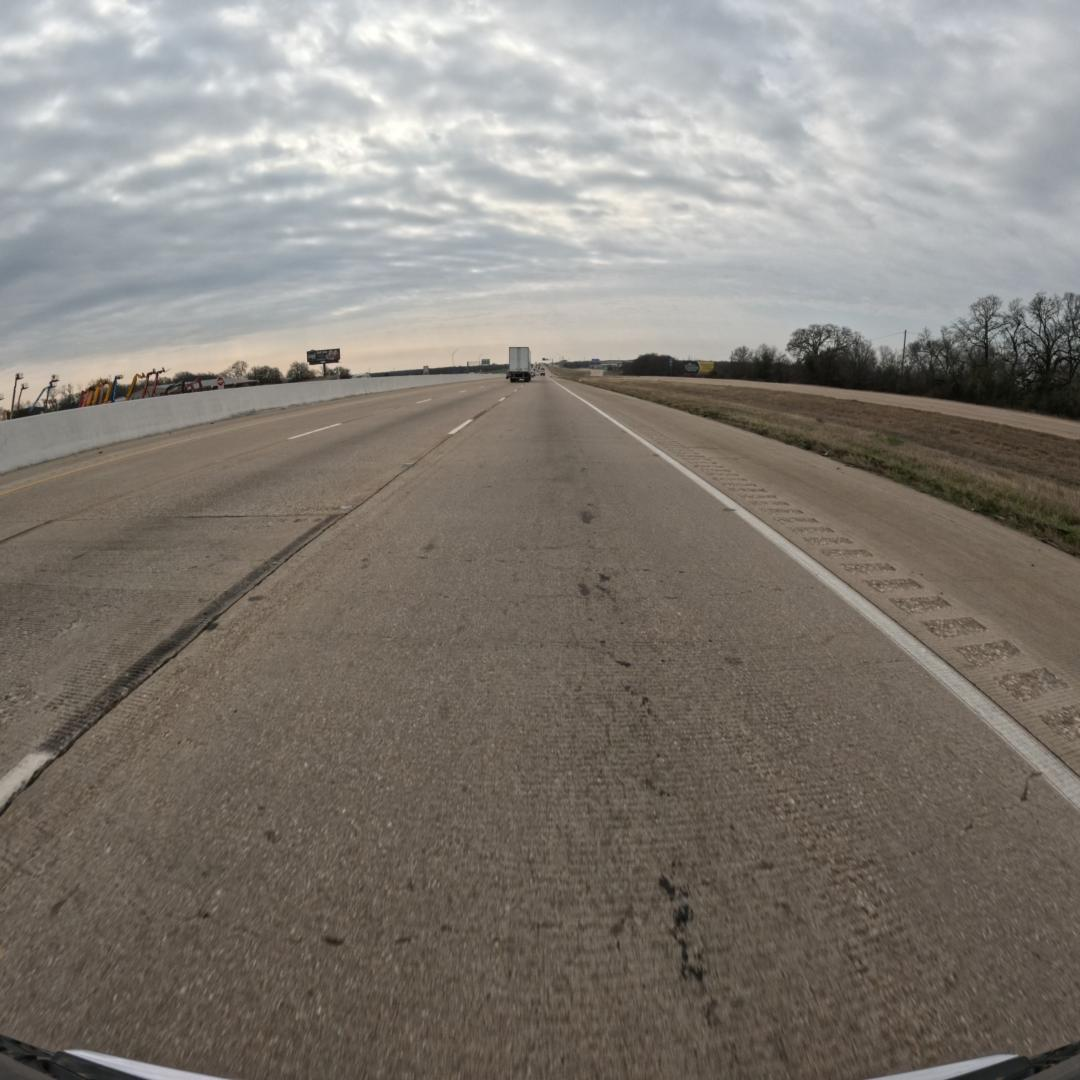lane0: (0, 382, 1080, 1077)
lane1: (0, 383, 512, 812)
